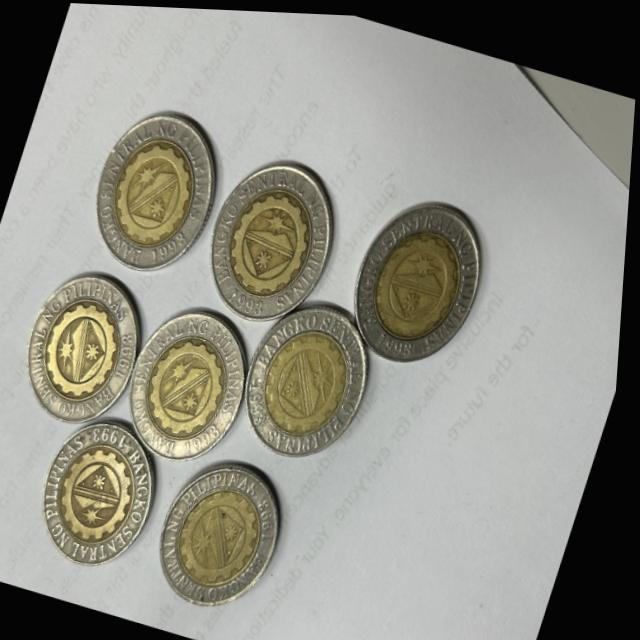10_Old_Back: (340, 180, 504, 374), (194, 138, 353, 335), (84, 90, 241, 278), (120, 298, 273, 477), (241, 296, 395, 467), (33, 411, 184, 577), (16, 266, 161, 428), (161, 441, 304, 602)
